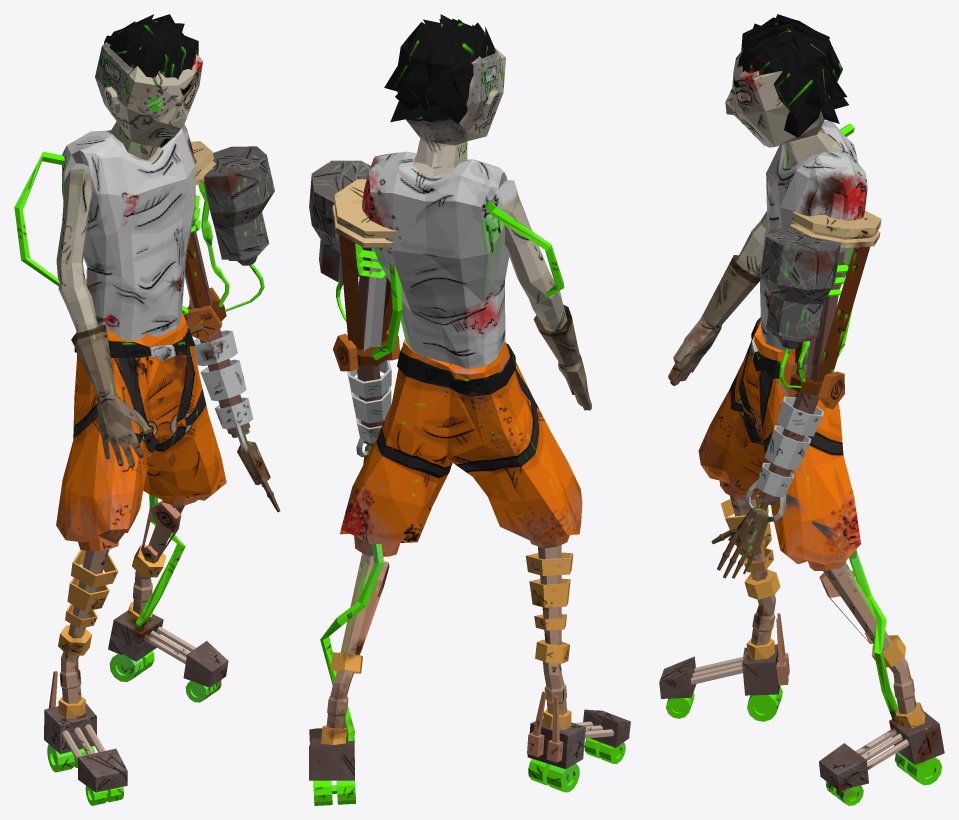
File: CyborgFINALAnimation_000162.obj
3 renders of one model, left to right at view 1: azimuth 30°, elevation 25°; view 2: azimuth 150°, elevation 25°; view 3: azimuth 270°, elevation 25°, orthographic. The views are drawn at different scales.
Visible parts, largest first — view 1: CyborgMesh_Cube.002; view 2: CyborgMesh_Cube.002; view 3: CyborgMesh_Cube.002.
Part boxes in pixels (<box>): CyborgMesh_Cube.002: <box>14,14,280,805</box>; CyborgMesh_Cube.002: <box>309,14,630,805</box>; CyborgMesh_Cube.002: <box>659,14,944,805</box>.
Size of the model in its own units: 3.4 by 9.61 by 3.35.
